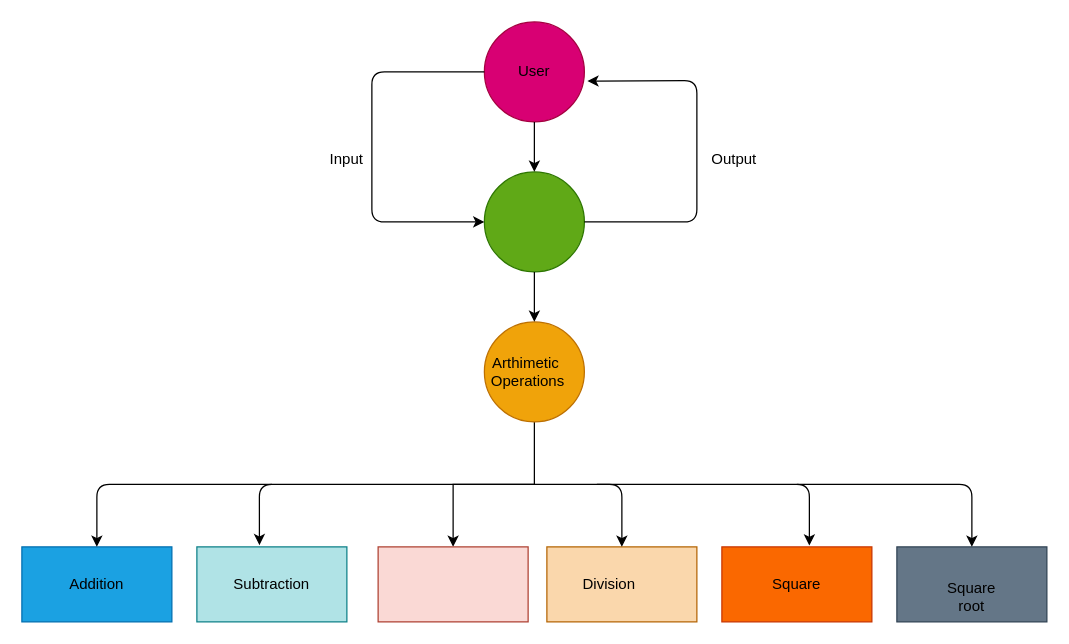
The diagram is 1069 pixels wide and 644 high, and some of its shapes have lost their labels. Here are the shapes that lost their labels. From the top down, the centre of each, then its label:
the point at 533,221: Calculator
the point at 452,584: Multiplication
